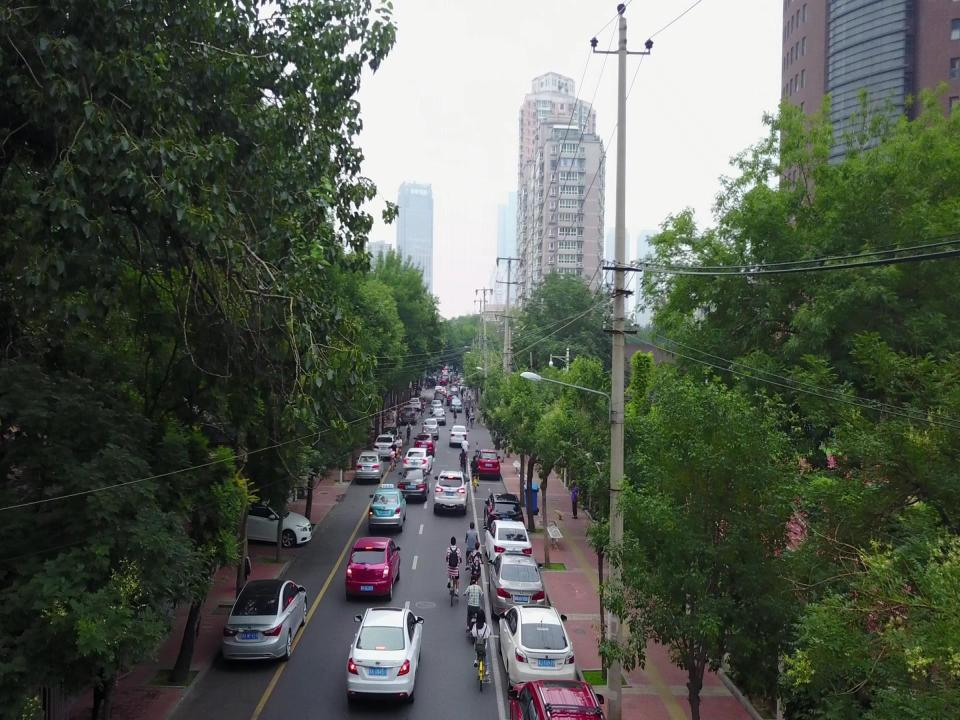car: (347, 606, 423, 703), (222, 580, 306, 665), (499, 609, 577, 692), (220, 496, 313, 546), (486, 554, 546, 620), (346, 534, 400, 603), (507, 682, 605, 718), (484, 520, 532, 568), (367, 484, 405, 531), (483, 492, 521, 534), (434, 472, 468, 518), (397, 467, 429, 501), (356, 451, 384, 481), (402, 448, 432, 476), (475, 451, 500, 480), (373, 436, 397, 459), (377, 426, 401, 449), (414, 431, 436, 456), (449, 424, 468, 445), (423, 418, 439, 439), (399, 405, 415, 424), (408, 397, 422, 412), (430, 399, 442, 416), (434, 409, 446, 425), (450, 397, 462, 410)
